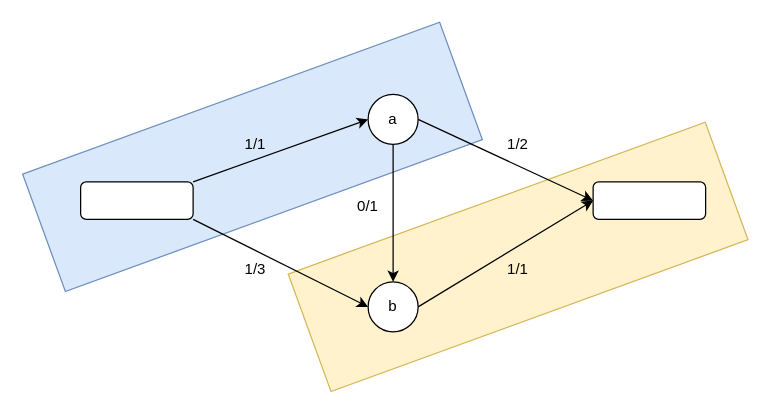
This 770x414 diagram has some shape labels left out. Here are the shapes that lost their labels. From the top down, the centre of each, then its label:
At (136,200): "sink".
At (649,200): "source".
